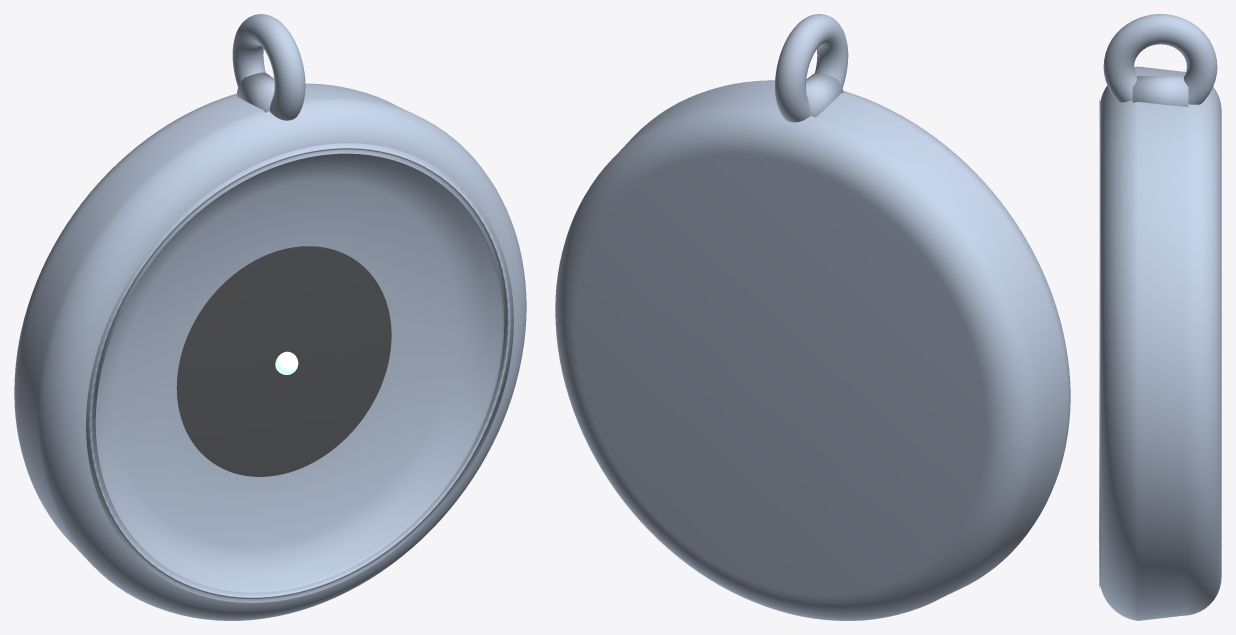
Rendered from mira.glb.
3 views of the same model, side by side, from view 1: azimuth 30°, elevation 25°; view 2: azimuth 150°, elevation 25°; view 3: azimuth 270°, elevation 25° (orthographic).
Visible parts, largest first — view 1: MIRA_vidrio, MIRA_metal, MIRA_argolla, MIRA_cuello; view 2: MIRA_vidrio, MIRA_argolla, MIRA_cuello; view 3: MIRA_vidrio, MIRA_argolla, MIRA_cuello.
Boxes of the visible parts, x1,y1,x2,y2 form: MIRA_vidrio: [14, 83, 526, 620]; MIRA_metal: [176, 246, 391, 476]; MIRA_argolla: [232, 14, 305, 120]; MIRA_cuello: [236, 72, 274, 112]; MIRA_vidrio: [555, 80, 1070, 620]; MIRA_argolla: [775, 14, 848, 122]; MIRA_cuello: [806, 73, 843, 117]; MIRA_vidrio: [1099, 66, 1221, 620]; MIRA_argolla: [1103, 14, 1217, 104]; MIRA_cuello: [1132, 76, 1188, 106].
Size of the model in its own units: 2 by 2.3 by 0.44.
